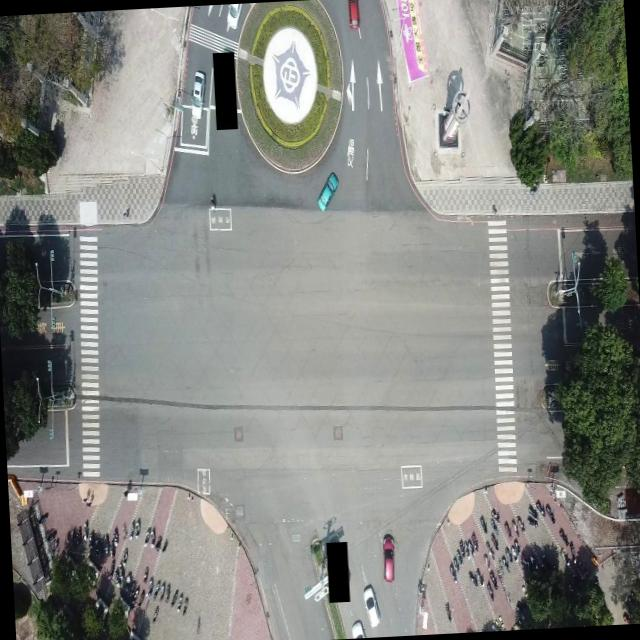bike: (205, 183, 222, 216)
car: (316, 171, 340, 212), (380, 531, 397, 582), (363, 582, 380, 627), (192, 70, 208, 110), (346, 0, 362, 29)
